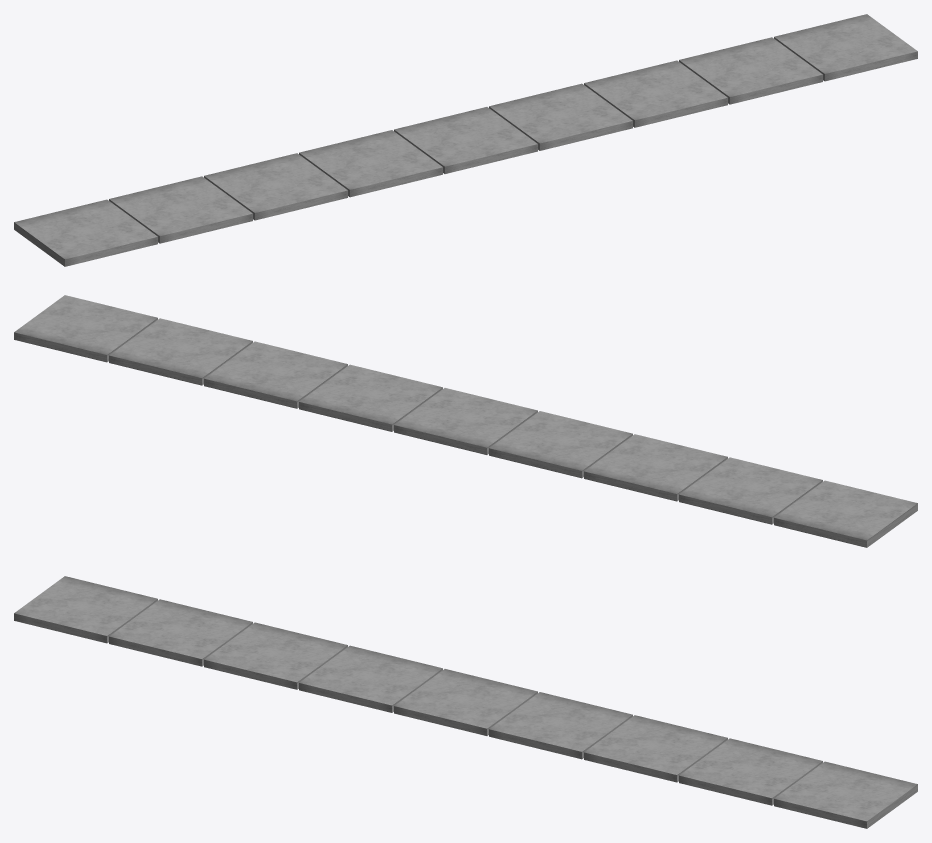
File: CALSADA.fbx
3 renders of one model, top to bottom at view 1: azimuth 30°, elevation 25°; view 2: azimuth 150°, elevation 25°; view 3: azimuth 330°, elevation 25°, orthographic.
Visible parts, largest first — view 1: Cube.016; view 2: Cube.016; view 3: Cube.016.
Boxes of the visible parts, left/top/right/bottom form: Cube.016: left=14, top=14, right=917, bottom=266; Cube.016: left=14, top=295, right=917, bottom=547; Cube.016: left=14, top=576, right=917, bottom=828.
Size of the model in its own units: 4655 by 38.92 by 481.
